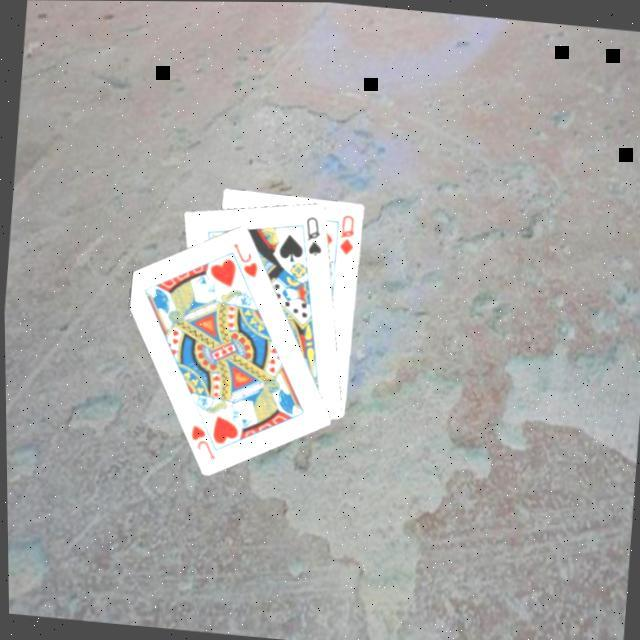JH: (228, 236, 264, 279), (185, 420, 220, 462)
QD: (336, 209, 361, 257)
QS: (300, 211, 329, 258)
